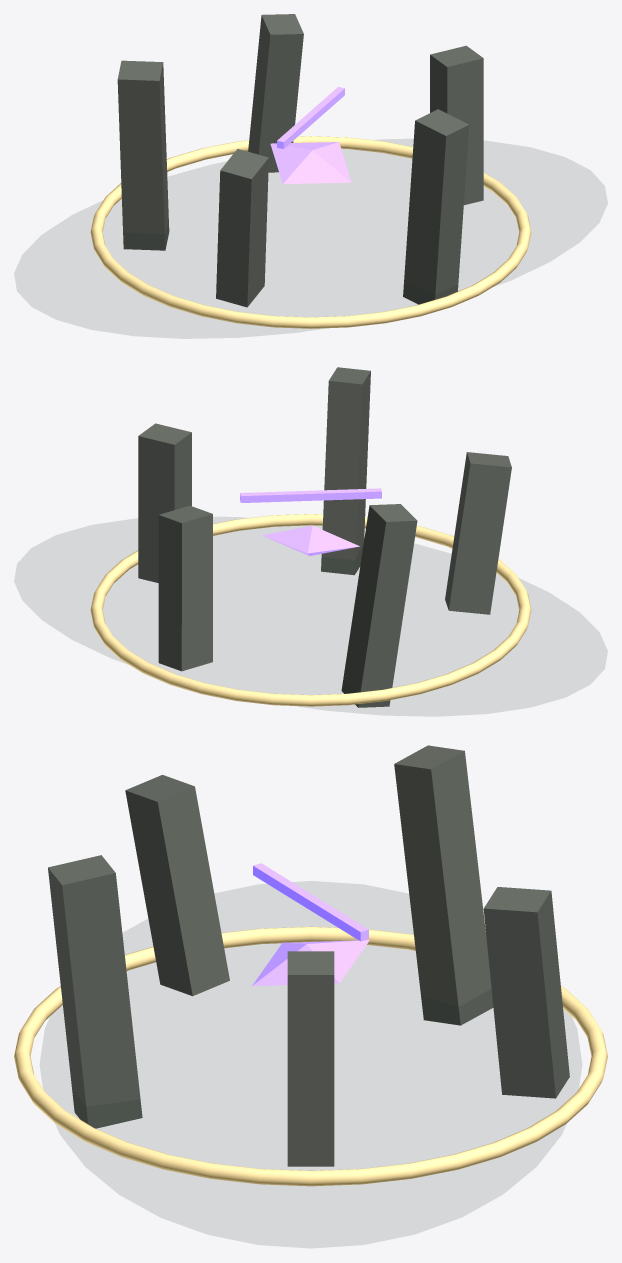
Rendered from world_riddle_site.glb.
3 renders of one model, top to bottom at view 1: azimuth 30°, elevation 25°; view 2: azimuth 150°, elevation 25°; view 3: azimuth 270°, elevation 25°, orthographic. The views are drawn at different scales.
Visible parts, largest first — view 1: soft_ground_shadow, riddle_standing_stone_1, riddle_outer_ring, riddle_standing_stone_3, riddle_standing_stone_2, riddle_standing_stone_4, riddle_standing_stone_0, riddle_center_glyph, riddle_glyph_bar; view 2: soft_ground_shadow, riddle_outer_ring, riddle_standing_stone_3, riddle_standing_stone_4, riddle_standing_stone_1, riddle_standing_stone_2, riddle_standing_stone_0, riddle_center_glyph, riddle_glyph_bar; view 3: soft_ground_shadow, riddle_standing_stone_3, riddle_standing_stone_1, riddle_outer_ring, riddle_standing_stone_2, riddle_standing_stone_4, riddle_standing_stone_0, riddle_center_glyph, riddle_glyph_bar.
Boxes of the visible parts, x1,y1,x2,y2 form: soft_ground_shadow: (15, 139, 606, 338); riddle_standing_stone_1: (403, 109, 469, 304); riddle_outer_ring: (90, 136, 531, 328); riddle_standing_stone_3: (117, 60, 169, 250); riddle_standing_stone_2: (216, 149, 268, 307); riddle_standing_stone_4: (248, 14, 303, 172); riddle_standing_stone_0: (430, 45, 483, 205); riddle_center_glyph: (270, 142, 351, 184); riddle_glyph_bar: (277, 87, 344, 148); soft_ground_shadow: (14, 517, 606, 715); riddle_outer_ring: (90, 514, 531, 706); riddle_standing_stone_3: (341, 504, 417, 707); riddle_standing_stone_4: (158, 505, 212, 671); riddle_standing_stone_1: (321, 367, 370, 575); riddle_standing_stone_2: (445, 452, 511, 614); riddle_standing_stone_0: (138, 423, 191, 582); riddle_center_glyph: (262, 525, 359, 555); riddle_glyph_bar: (240, 488, 381, 502); soft_ground_shadow: (40, 881, 581, 1247); riddle_standing_stone_3: (394, 745, 493, 1025); riddle_standing_stone_1: (48, 855, 142, 1128); riddle_outer_ring: (14, 926, 607, 1186); riddle_standing_stone_2: (125, 775, 229, 996); riddle_standing_stone_4: (483, 887, 569, 1098); riddle_standing_stone_0: (287, 951, 334, 1166); riddle_center_glyph: (252, 940, 369, 986); riddle_glyph_bar: (253, 863, 368, 941).
Size of the model in its own units: 3.38 by 1.08 by 2.3.
